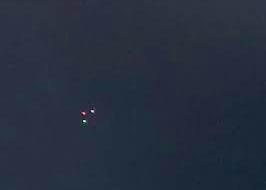Plane: (66, 99, 107, 128)
